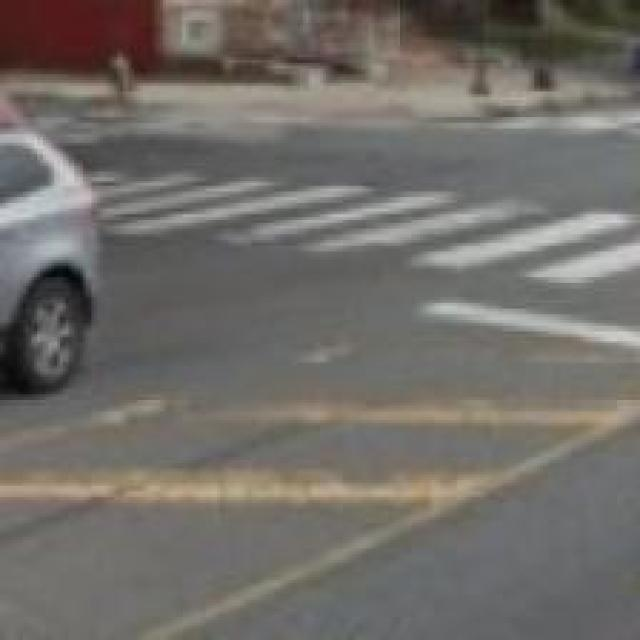zebra: (83, 156, 637, 293)
